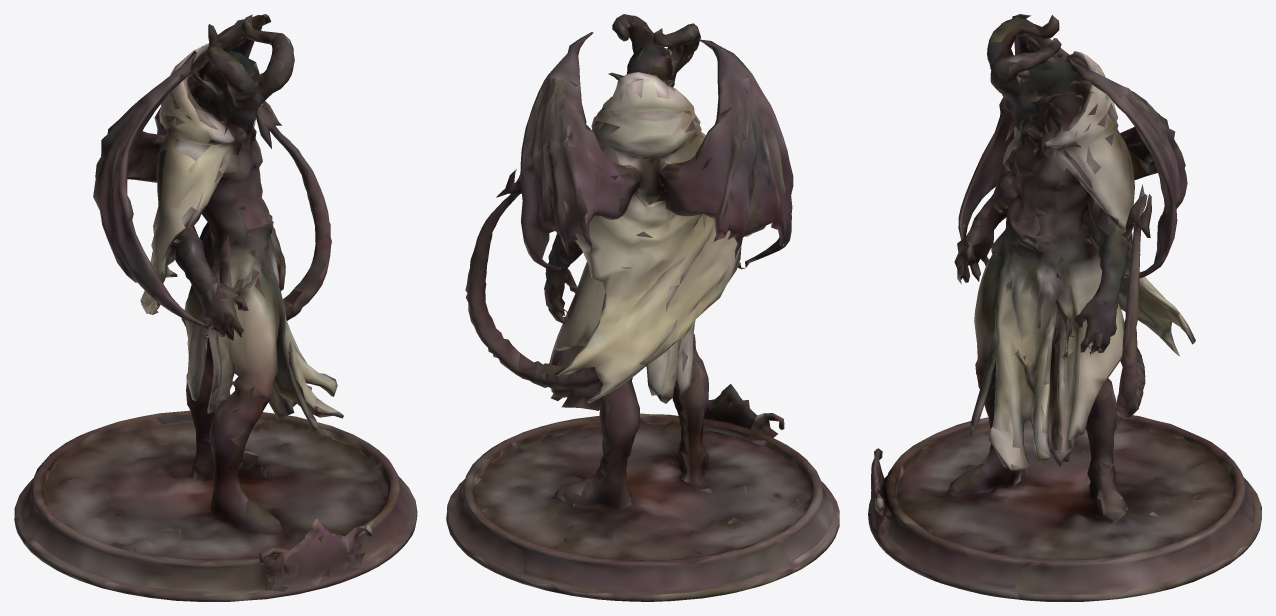
The model's file is Exorius_final.glb.
3 renders of one model, left to right at view 1: azimuth 30°, elevation 25°; view 2: azimuth 150°, elevation 25°; view 3: azimuth 270°, elevation 25°, orthographic. The views are drawn at different scales.
Visible parts, largest first — view 1: Mesh_0; view 2: Mesh_0; view 3: Mesh_0.
Boxes of the visible parts, x1,y1,x2,y2 form: Mesh_0: (14,14,417,601); Mesh_0: (446,14,839,601); Mesh_0: (868,14,1261,601).
Size of the model in its own units: 1.46 by 2 by 1.44.
Materials: 1 (1 with a texture image).
